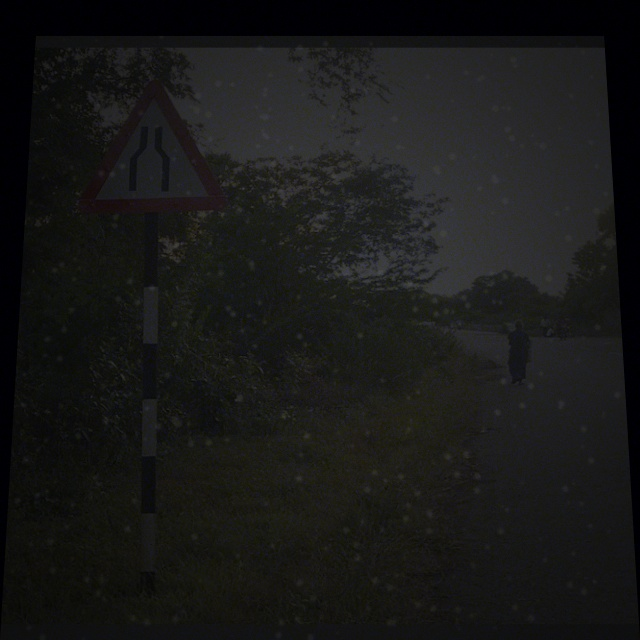Narrow_Road_Ahead: (77, 76, 233, 212)
